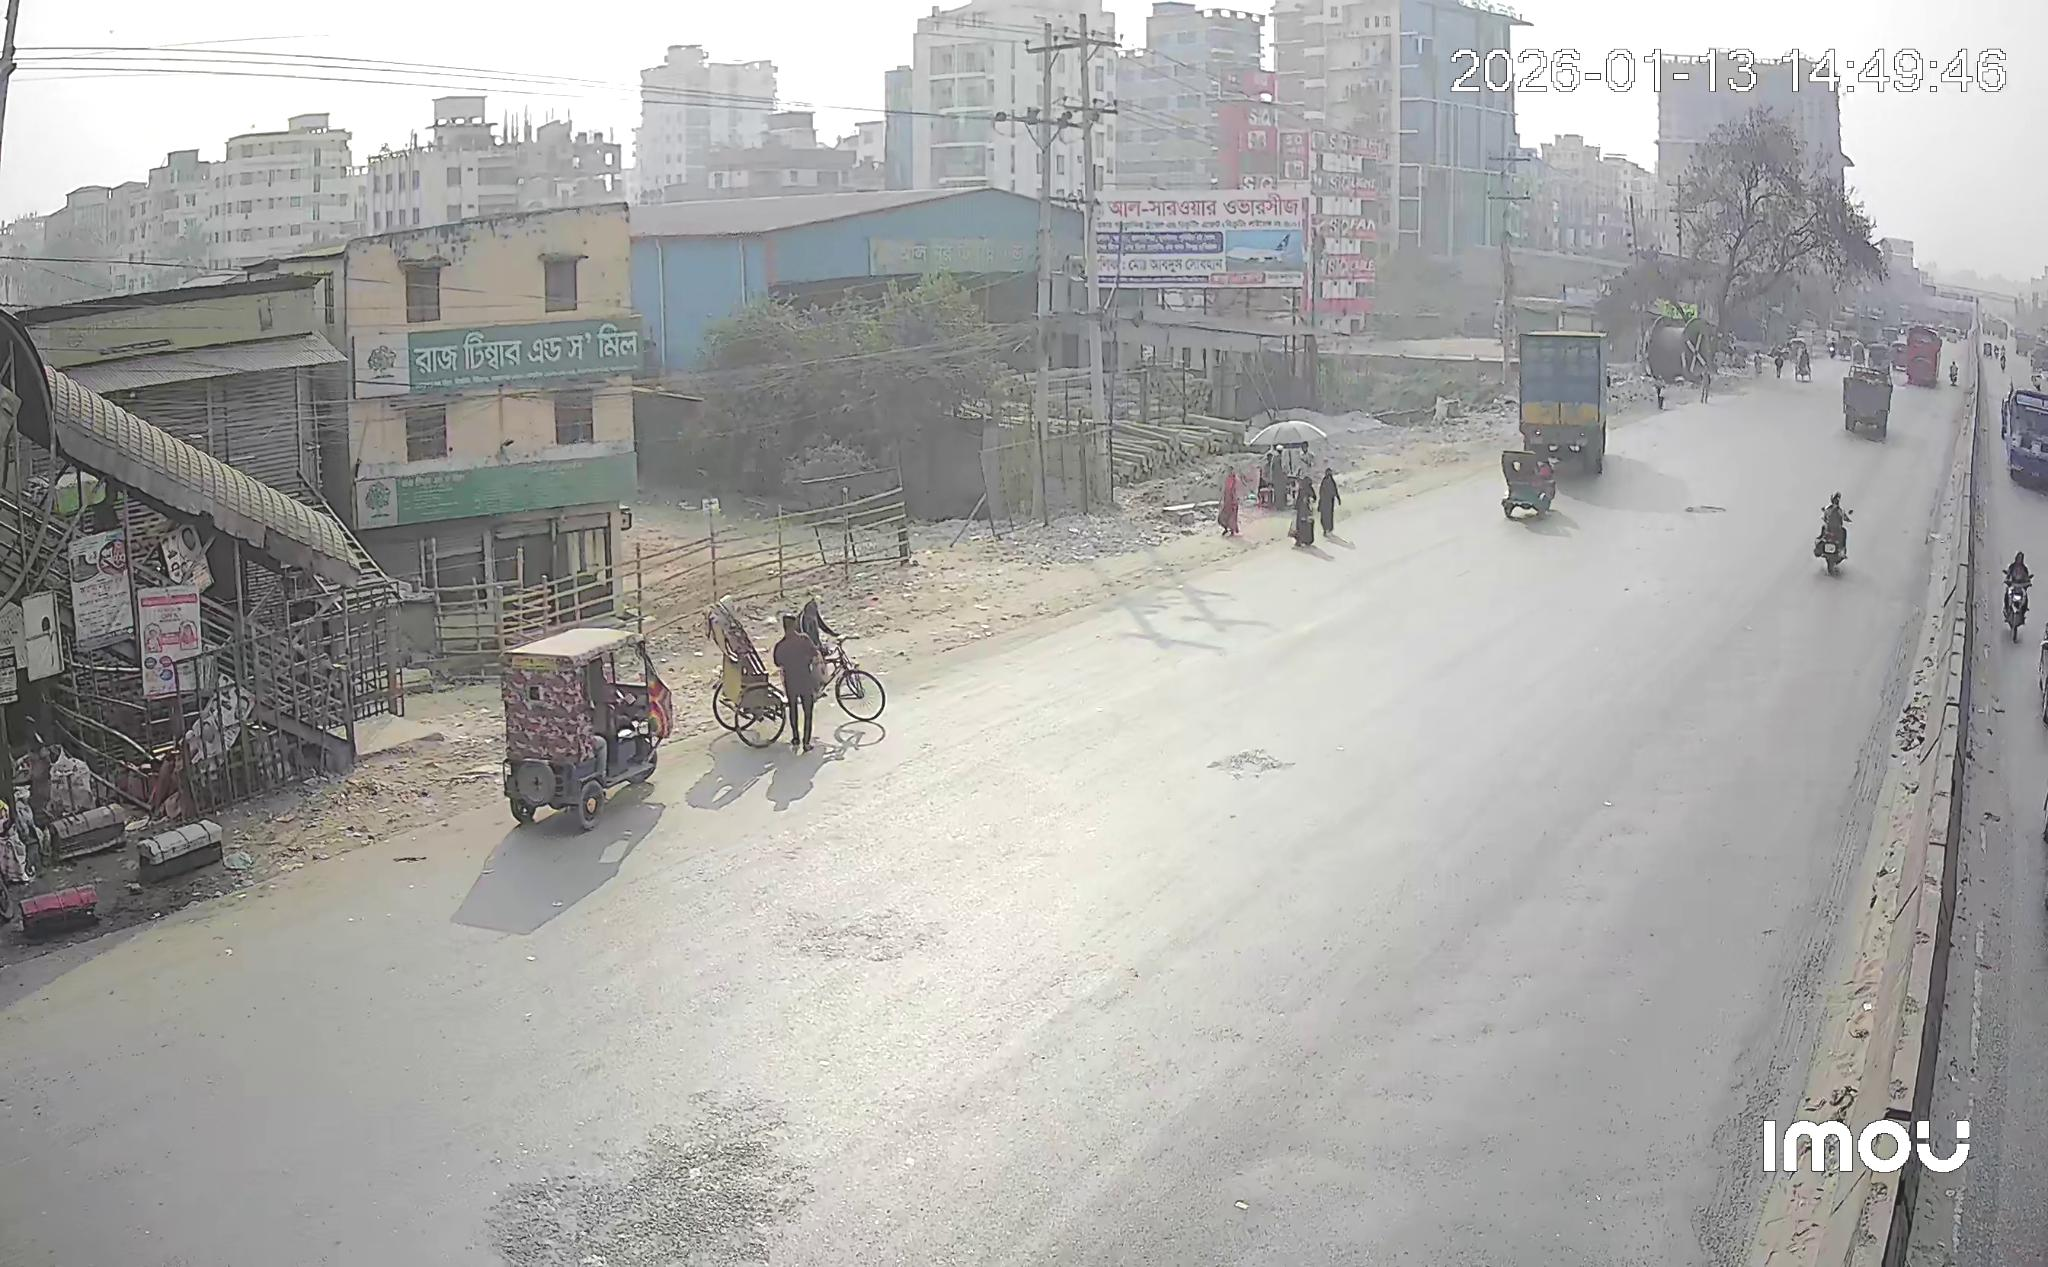Auto Rickshaw: (502, 626, 671, 831), (1501, 451, 1556, 518)
Cycle Rickshaw: (707, 598, 881, 751)
Motorcycle: (1815, 492, 1852, 574), (2004, 552, 2033, 641)
Truck: (1518, 332, 1606, 474)
